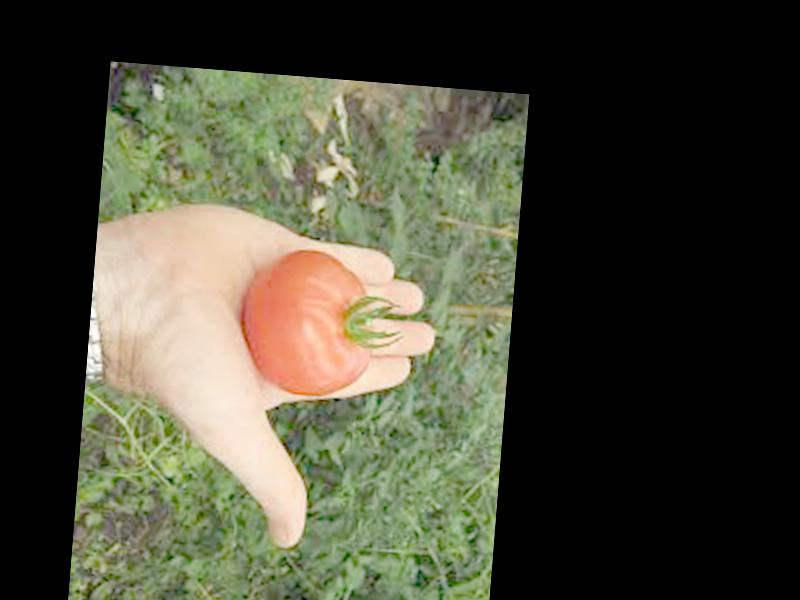Tomato: (238, 243, 377, 402)
